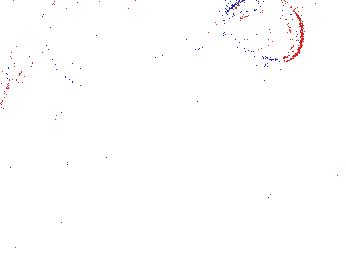moon jellyfish: (41, 2, 158, 93), (106, 1, 225, 57), (225, 1, 304, 63)
